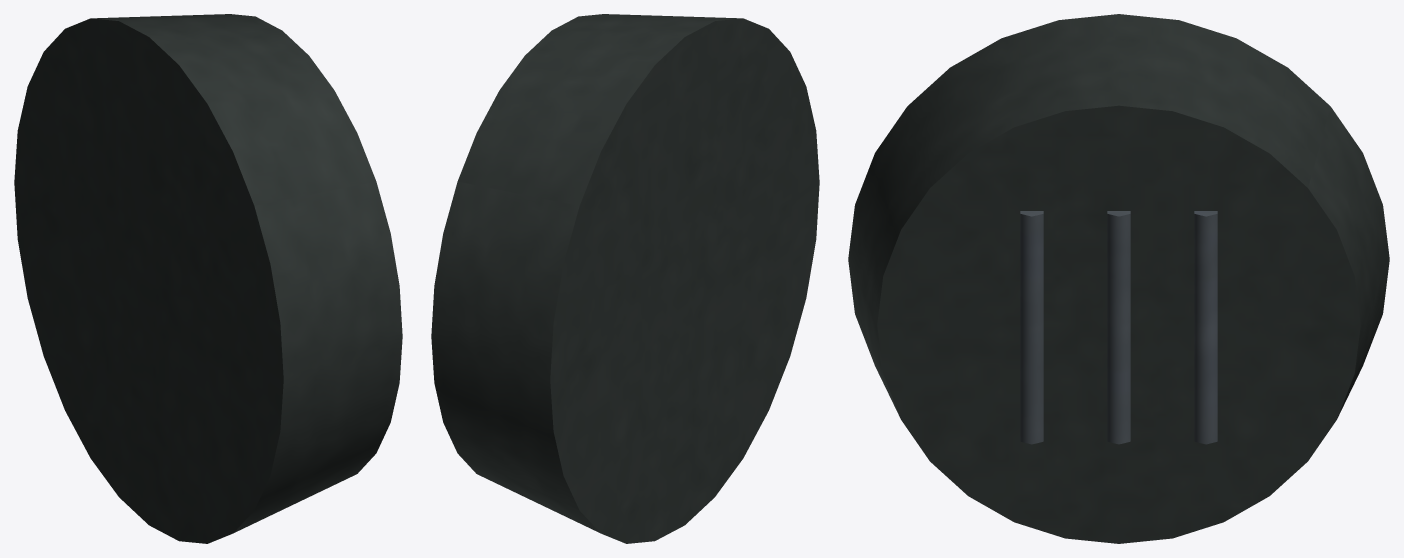
The model's file is prop_intercom.fbx.
3 views of the same model, side by side, from view 1: azimuth 30°, elevation 25°; view 2: azimuth 150°, elevation 25°; view 3: azimuth 270°, elevation 25° (orthographic).
Visible parts, largest first — view 1: SM_prop_intercom; view 2: SM_prop_intercom; view 3: SM_prop_intercom.
Boxes of the visible parts, x1,y1,x2,y2 form: SM_prop_intercom: (14, 14, 402, 543); SM_prop_intercom: (431, 14, 819, 543); SM_prop_intercom: (848, 14, 1389, 543).
Bounding box in the file's own units: 0.0174 × 0.056 × 0.056.
2 materials, 2 textured.
